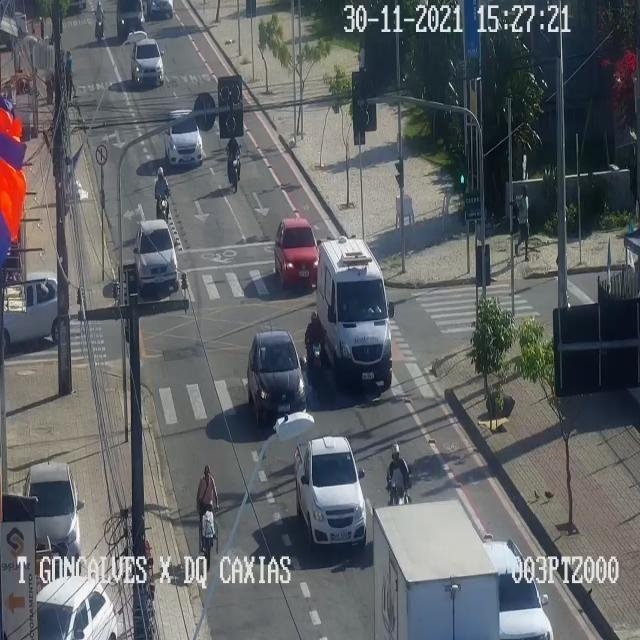Car: (318, 238, 396, 392), (294, 436, 366, 550), (484, 537, 554, 639), (22, 459, 84, 559), (248, 328, 306, 428), (35, 573, 121, 639), (3, 273, 71, 356), (133, 217, 182, 294), (274, 218, 320, 284), (164, 110, 202, 172), (130, 39, 166, 87), (118, 0, 144, 40), (147, 0, 177, 24)
Motorcycle: (304, 312, 326, 394), (385, 441, 411, 506), (225, 133, 243, 191), (154, 165, 171, 223), (92, 0, 105, 42)
Truck: (372, 500, 502, 639)
